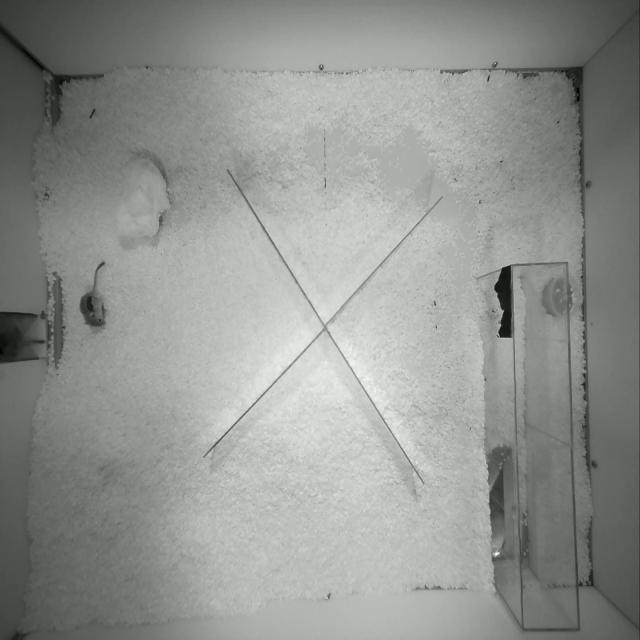pup_h_stripe: (0, 327, 47, 357)
pup_v_stripe: (79, 262, 105, 326)
